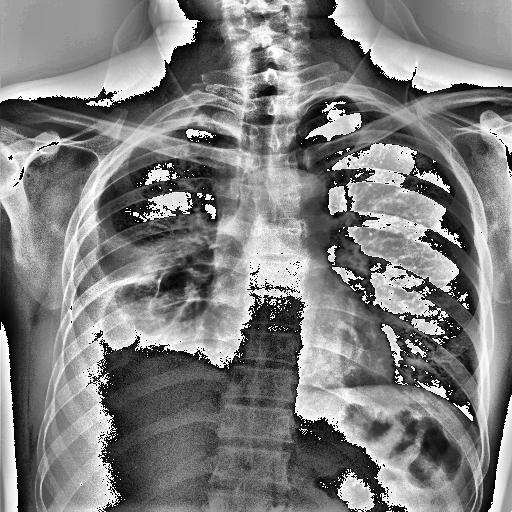10- Pleural effusion: (65, 180, 232, 400), (52, 192, 216, 408), (68, 186, 220, 379)
13- Pulmonary fibrosis: (92, 212, 216, 338), (146, 262, 194, 324), (145, 270, 167, 308)
4- Consolidation: (92, 212, 216, 338), (102, 236, 184, 282)
7- Lung Opacity: (92, 212, 216, 338), (100, 216, 216, 337), (116, 229, 218, 357)
